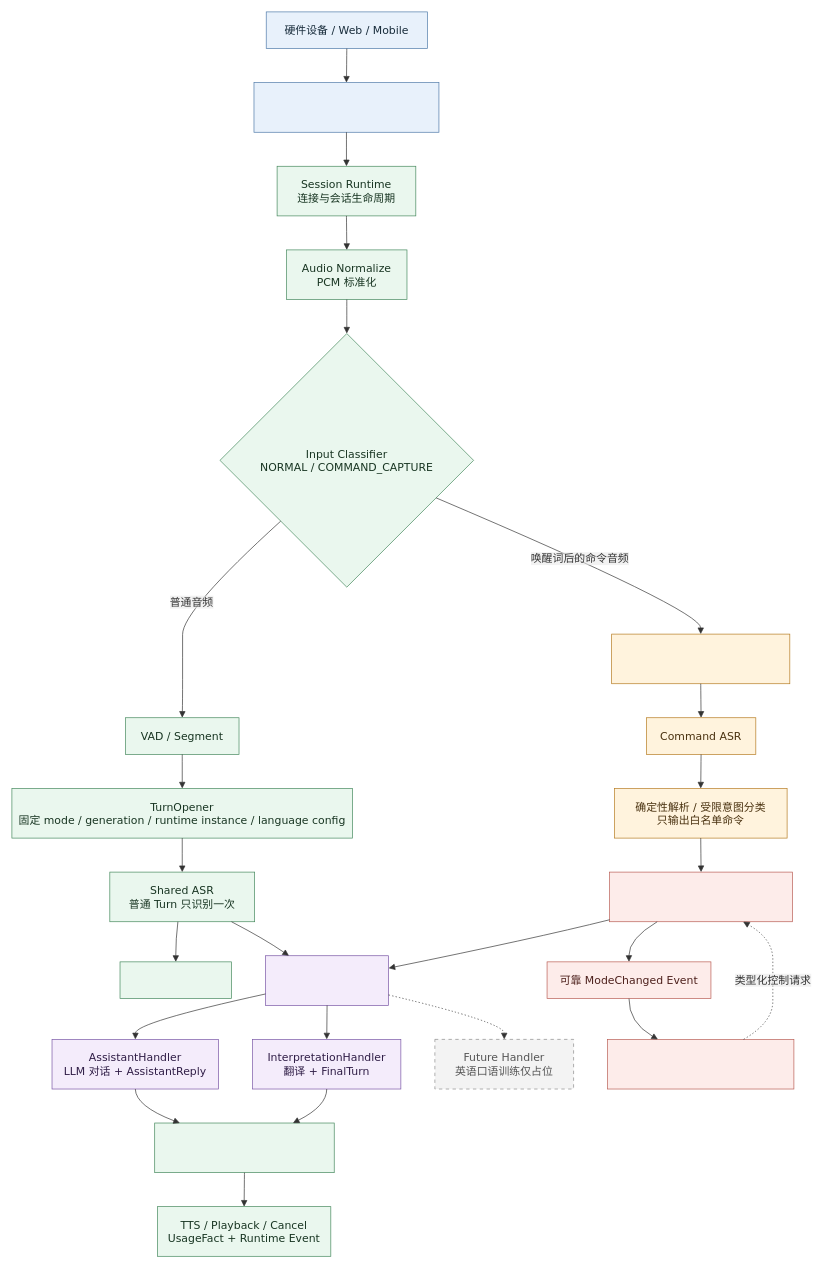
This 823x1268 diagram has some shape labels left out. Each missing label, with the box of its shape:
ASR UsageFact: (119, 961, 232, 999)
Bounded Command Window 独立缓冲 + VAD + 最长 10 秒: (611, 633, 790, 684)
ModeCoordinator 幂等 + generation + 原子切换: (609, 871, 793, 922)
ModeRouter 按 Turn 快照分发: (265, 955, 389, 1005)
services/api 授权 / 配置 / 审计 / 长期投影: (607, 1039, 794, 1089)
Shared SpeechOutput 泛化现有 playTranslatedText: (154, 1122, 334, 1173)
单一 WebRTC PeerConnection Track + DataChannel: (253, 82, 439, 132)
